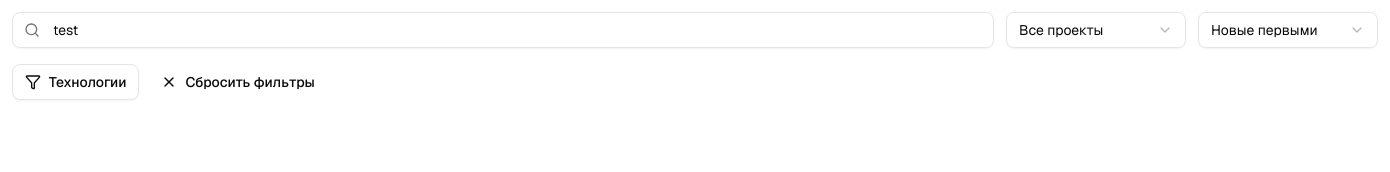
Test: ProjectsFilters › Очистка всех фильтров › Функция handleClearFilters › очищает локальный searchQuery
Expected: the field with placeholder "Поиск по названию..." holds "test", [12,12,994,48]
What coordinates should you click on to do the following:
click the button "Сбросить фильтры"
I would click on:
 (238, 82)
Its box is [151,66,325,98].
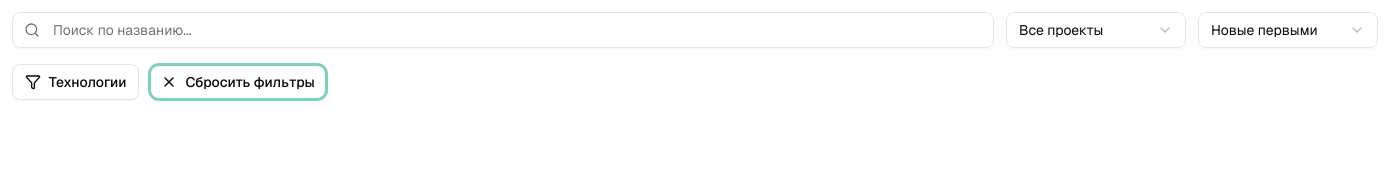
Expected: the field with placeholder "Поиск по названию..." is empty, [12,12,994,48]
